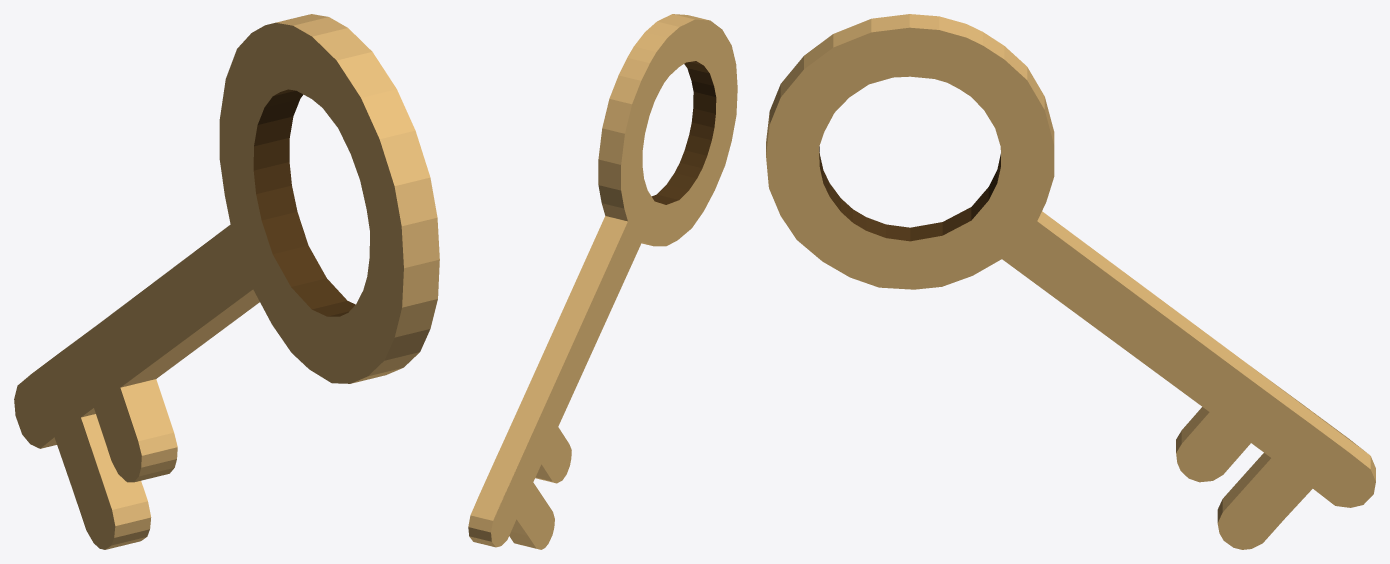
File: Key.fbx
3 views of the same model, side by side, from view 1: azimuth 30°, elevation 25°; view 2: azimuth 150°, elevation 25°; view 3: azimuth 270°, elevation 25° (orthographic). The views are drawn at different scales.
Parts seen in each view (by area): view 1: Plane; view 2: Plane; view 3: Plane.
Boxes of the visible parts, x1=… form: Plane: x1=14, y1=14, x2=439, y2=549; Plane: x1=468, y1=14, x2=737, y2=549; Plane: x1=766, y1=14, x2=1375, y2=549.
Bounding box in the file's own units: 14.62 × 260 × 275.
